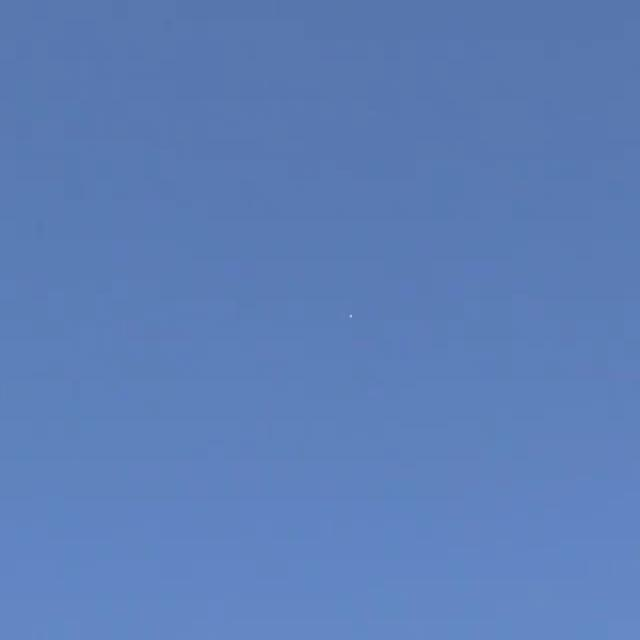AirPlane: (338, 300, 362, 334)
